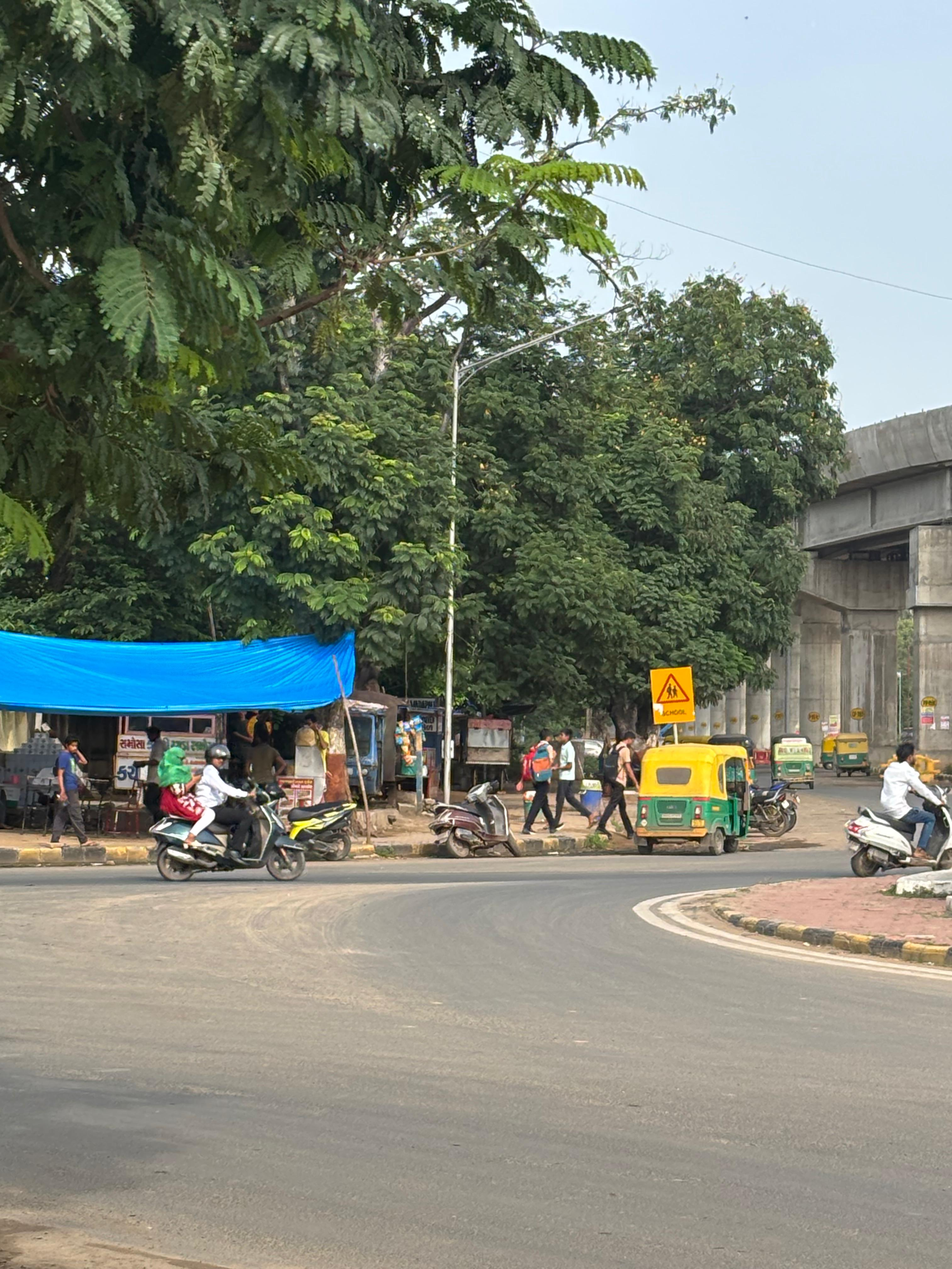BikeWithRider: (137, 734, 315, 888), (834, 735, 952, 883)
Helmet: (199, 736, 237, 768)
NoHelmet: (887, 737, 928, 772), (162, 742, 189, 772)
